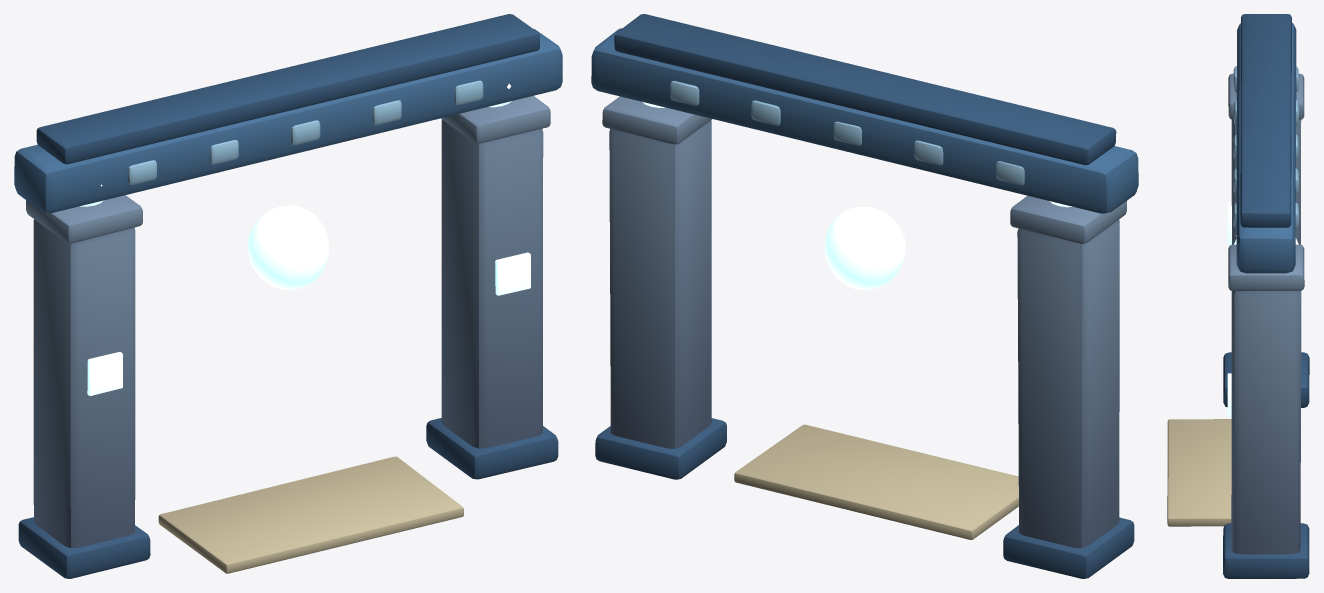
3 renders of one model, left to right at view 1: azimuth 30°, elevation 25°; view 2: azimuth 150°, elevation 25°; view 3: azimuth 270°, elevation 25°, orthographic. The views are drawn at different scales.
Parts seen in each view (by area): view 1: gate_796f4818; view 2: gate_796f4818; view 3: gate_796f4818.
Part boxes in pixels (x1,y1,x2,y2): gate_796f4818: [14, 14, 562, 578]; gate_796f4818: [591, 14, 1138, 578]; gate_796f4818: [1167, 14, 1309, 578].
Bounding box in the file's own units: 5.25 × 4.09 × 1.44.
